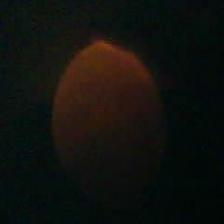fertile: (49, 38, 167, 212)
